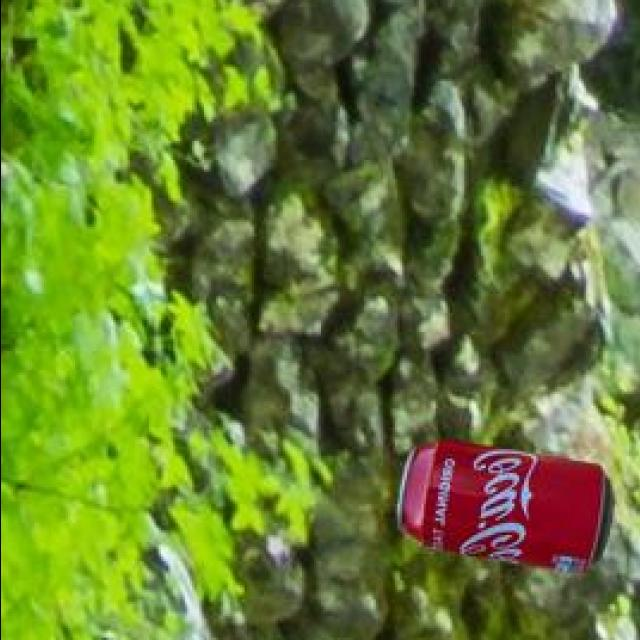logam: (400, 443, 615, 577)
